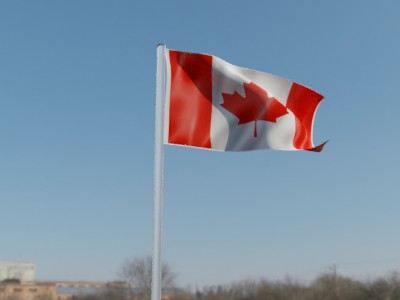Canada flag: (162, 46, 333, 156)
